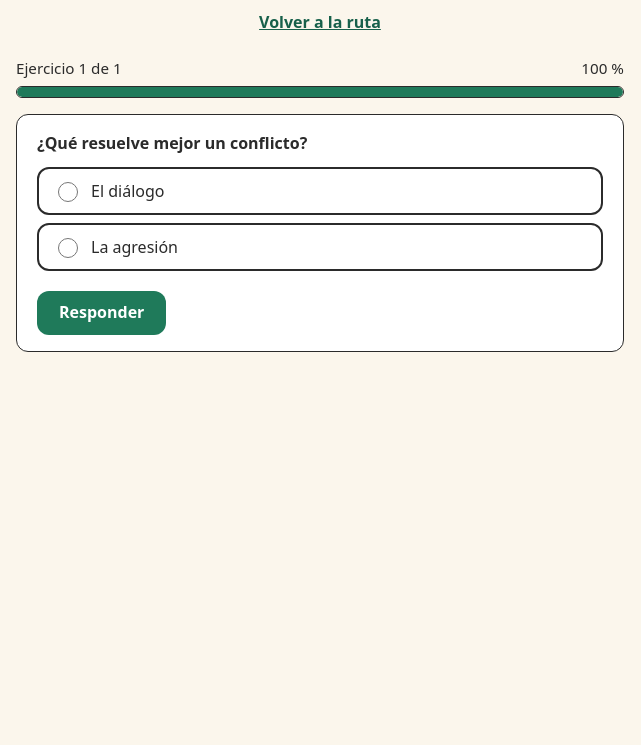
LeccionDetalle — retroalimentación (R3.2/R3.6) › un error muestra pista y permite Reintentar hasta acertar
Click the radio button labelled "La agresión". click: [68, 248]
box: [58,238,78,258]
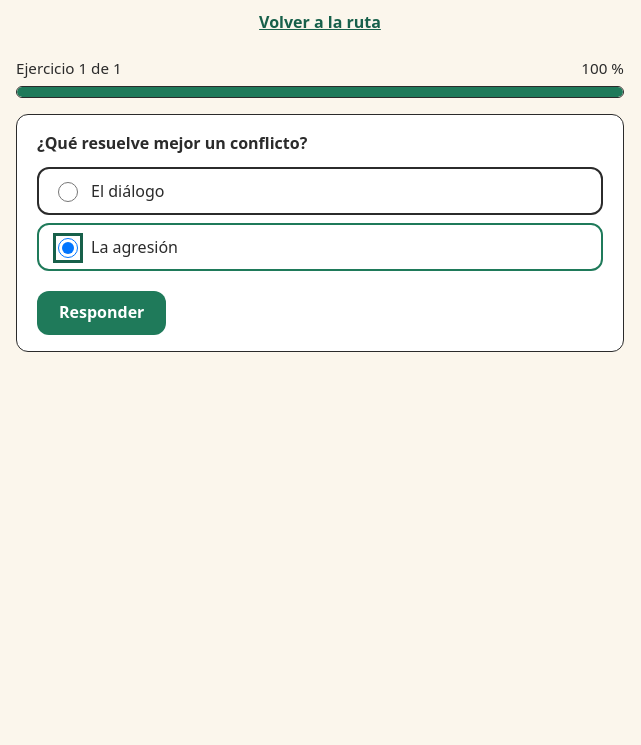
Click the button "Responder". click: [102, 313]
box: [37,291,166,335]
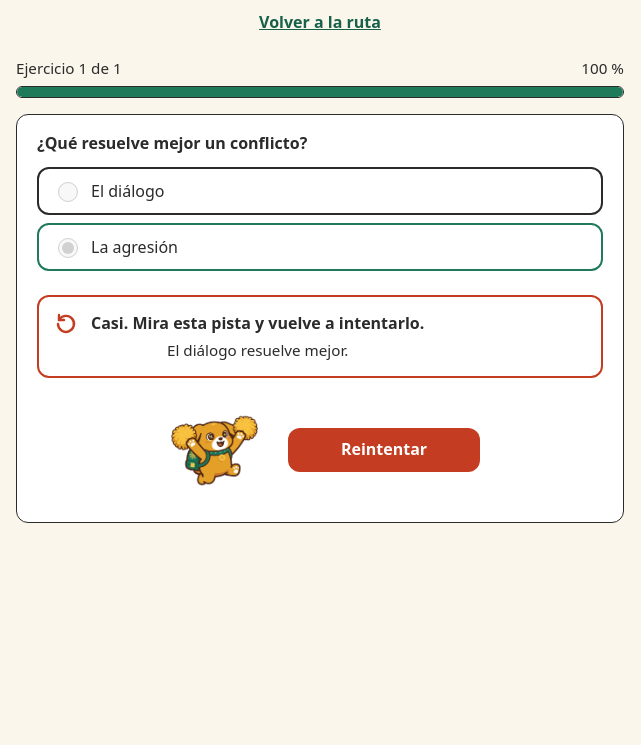
Expected: the message shows "Casi. Mira esta pista y vuelve a intentarlo.", [91,312,424,334]
Expected: the button "Reintentar" is shown
Click the button "Reintentar". click: [384, 450]
box: [288,428,480,472]
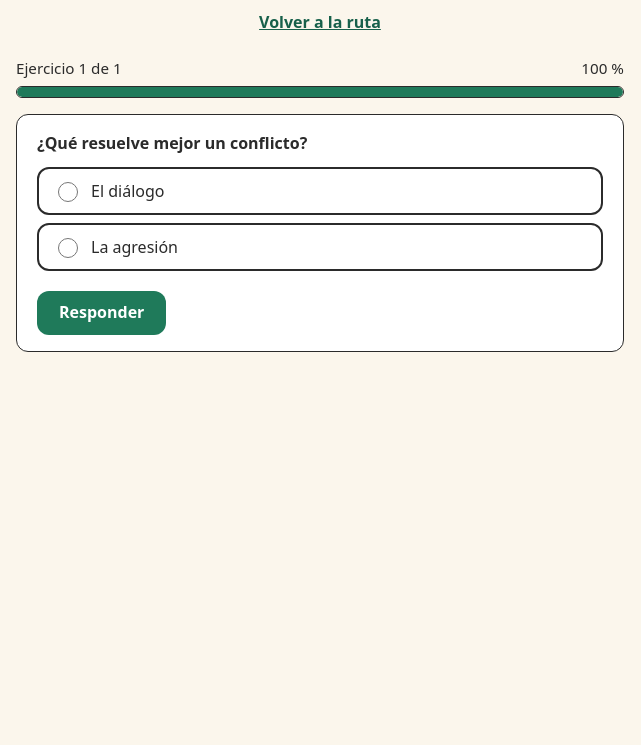
Click the radio button labelled "El diálogo". click: [68, 192]
box: [58,182,78,202]
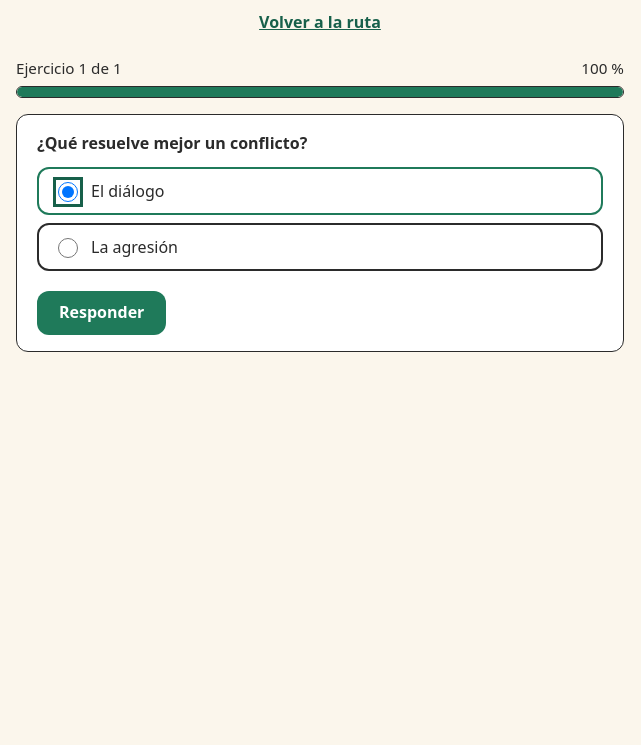
Click the button "Responder". click: [102, 313]
box: [37,291,166,335]
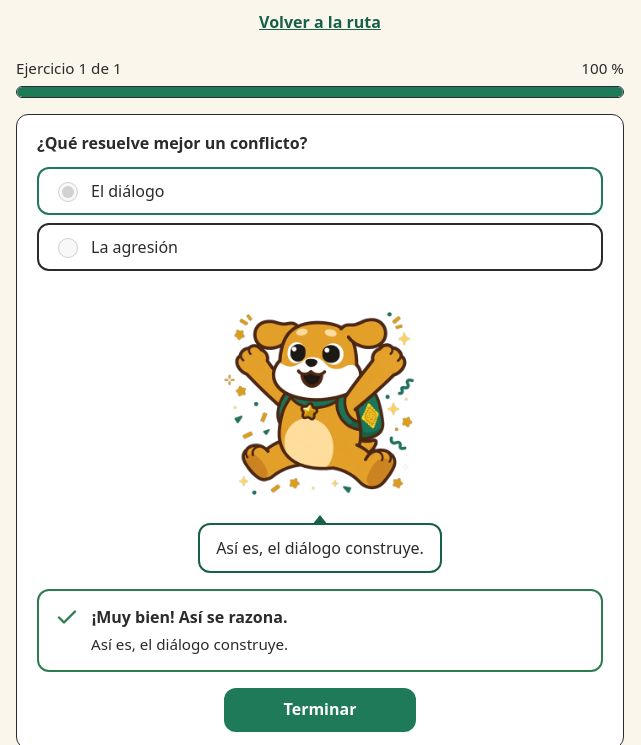
Expected: the message shows "¡Muy bien! Así se razona.", [92,606,288,628]
